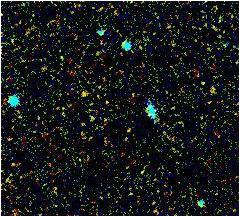star: (69, 81, 99, 111)
